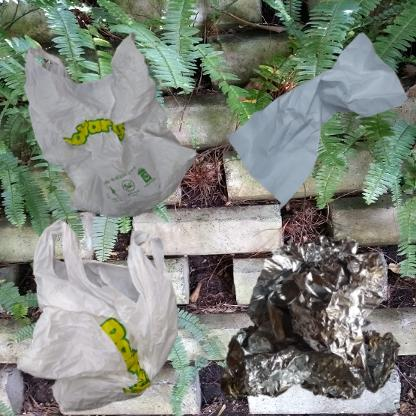aluminio: (213, 213, 416, 416)
bolsa: (10, 10, 225, 256), (10, 213, 200, 416)
papel: (213, 10, 416, 239)
